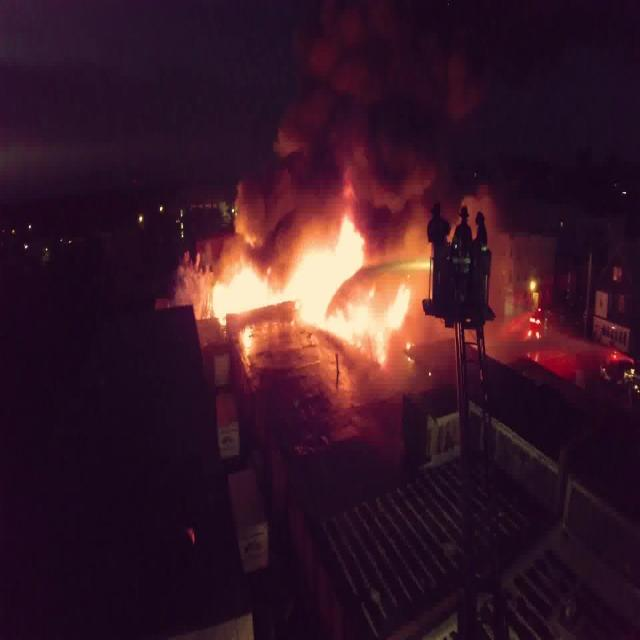Fire: (216, 224, 410, 367)
